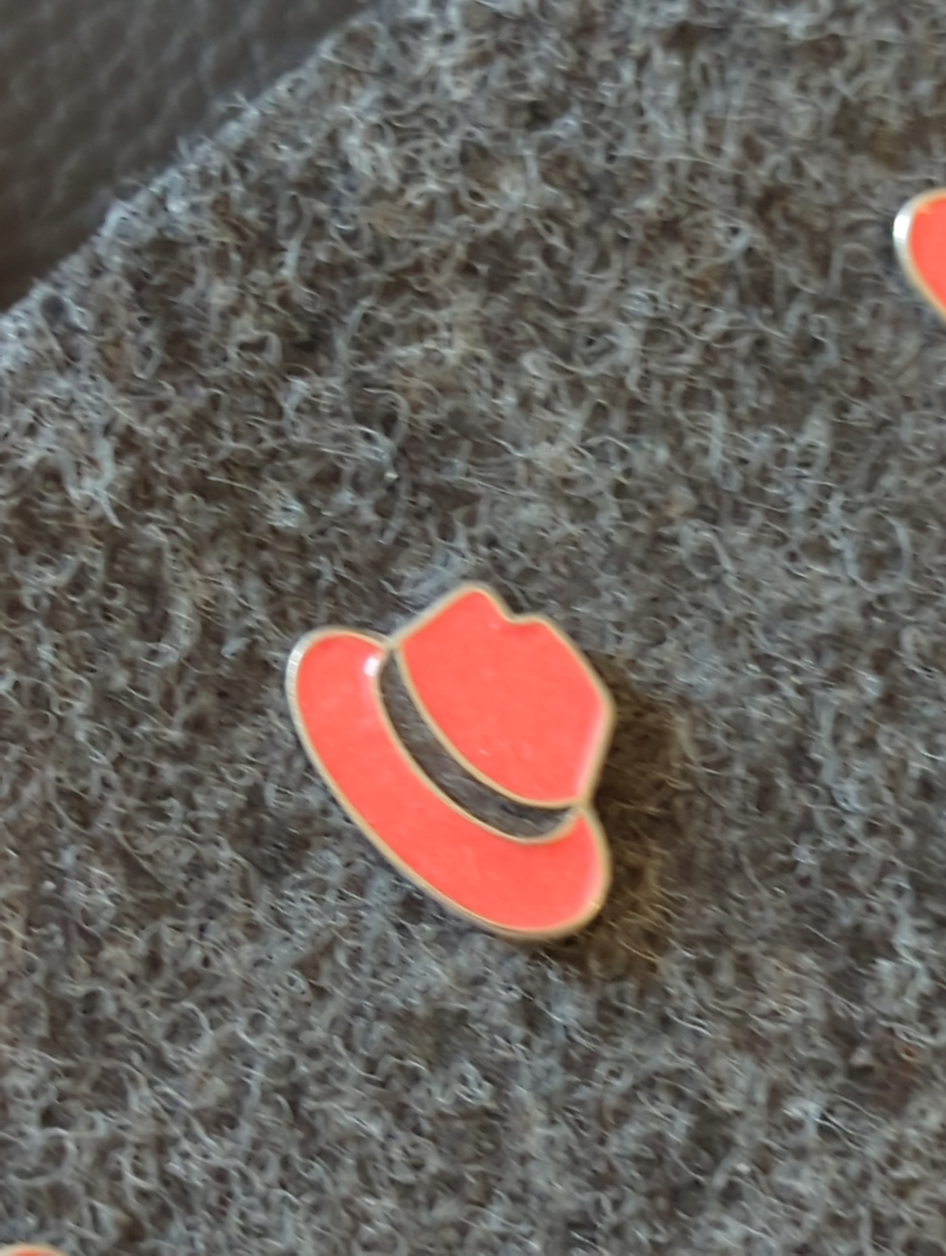Red-Hat: (154, 479, 753, 1035)
